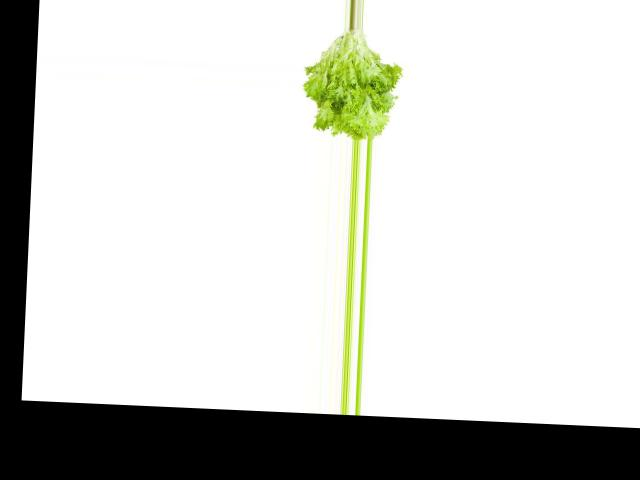lettuce: (296, 25, 405, 140)
